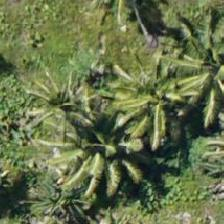coconut_tree: (110, 53, 200, 143), (57, 104, 147, 194), (167, 16, 223, 106), (0, 0, 61, 53)
